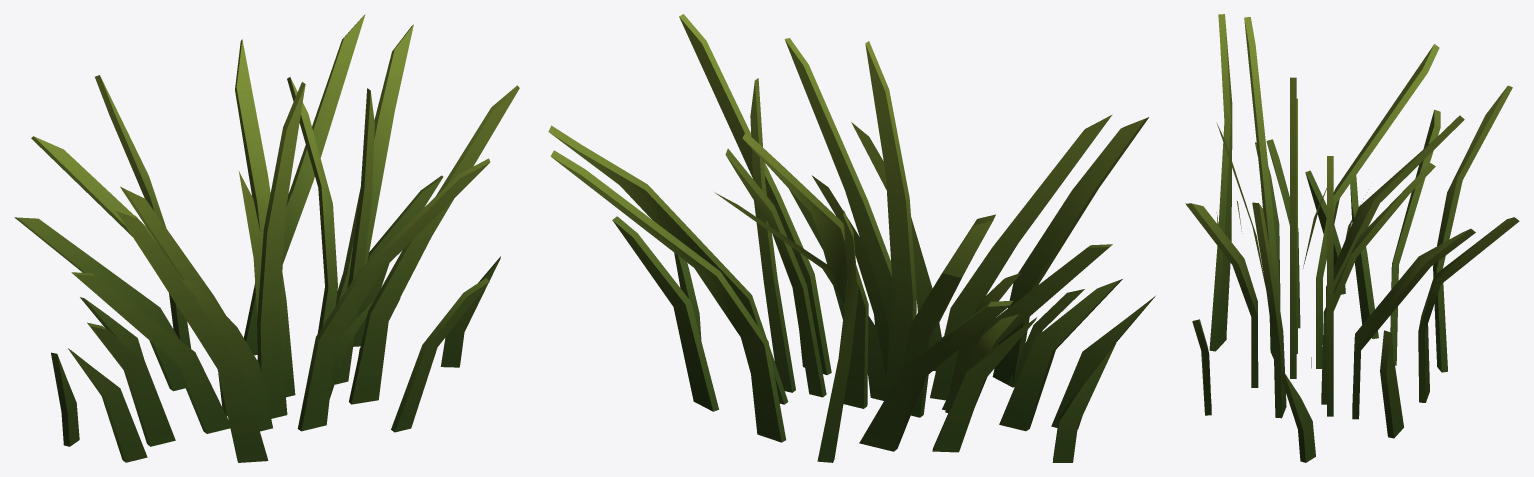
File: grass.glb
3 renders of one model, left to right at view 1: azimuth 30°, elevation 25°; view 2: azimuth 150°, elevation 25°; view 3: azimuth 270°, elevation 25°, orthographic. The views are drawn at different scales.
Parts seen in each view (by area): view 1: Grass_Large_Extruded, Grass_Small; view 2: Grass_Large_Extruded, Grass_Small; view 3: Grass_Large_Extruded, Grass_Small.
Boxes of the visible parts, x1,y1,x2,y2 form: Grass_Large_Extruded: (14,14,519,462); Grass_Small: (180,171,400,431); Grass_Large_Extruded: (548,14,1155,462); Grass_Small: (714,122,1084,412); Grass_Large_Extruded: (1185,14,1519,462); Grass_Small: (1216,122,1368,368).
Size of the model in its own units: 0.7447 by 0.5089 by 0.4973.
Materials: 1 (1 with a texture image).
